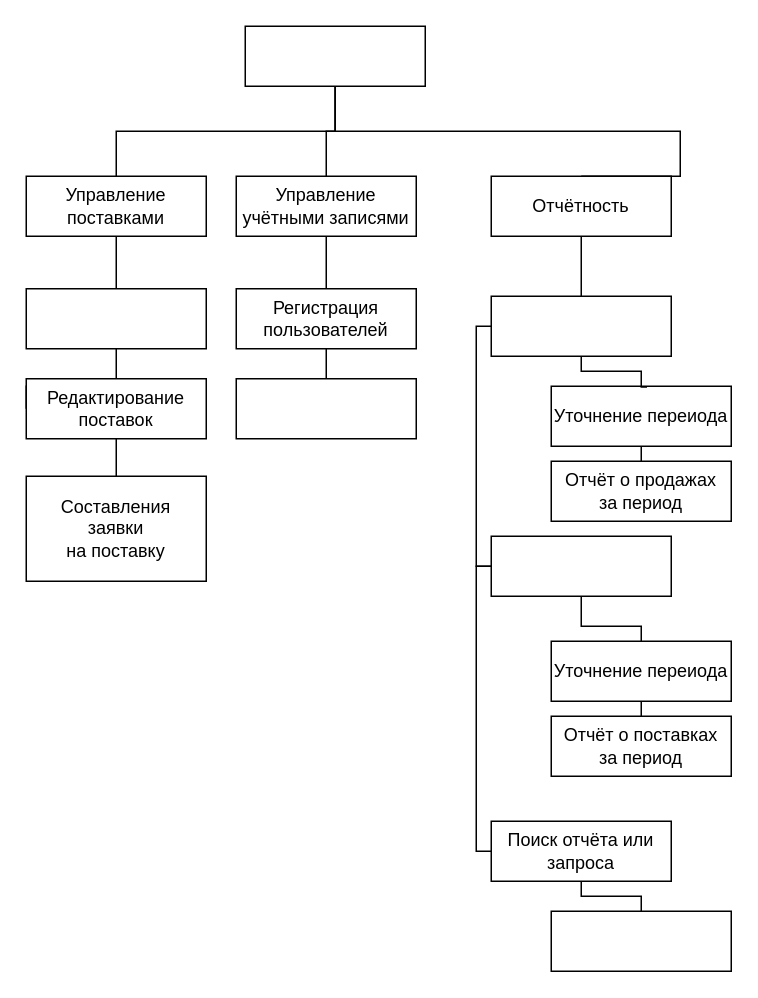
This 758x998 diagram has some shape labels left out. Here are the shapes that lost their labels. From the top down, the centre of each, then its label:
[334,55]: Главное меню
[115,318]: Добавление поставок
[580,325]: Формирование отчёта о продажах
[325,408]: Авторизация пользователей
[580,565]: Формирование отчёта о поставках
[640,940]: Искомый отчёт или запрос
